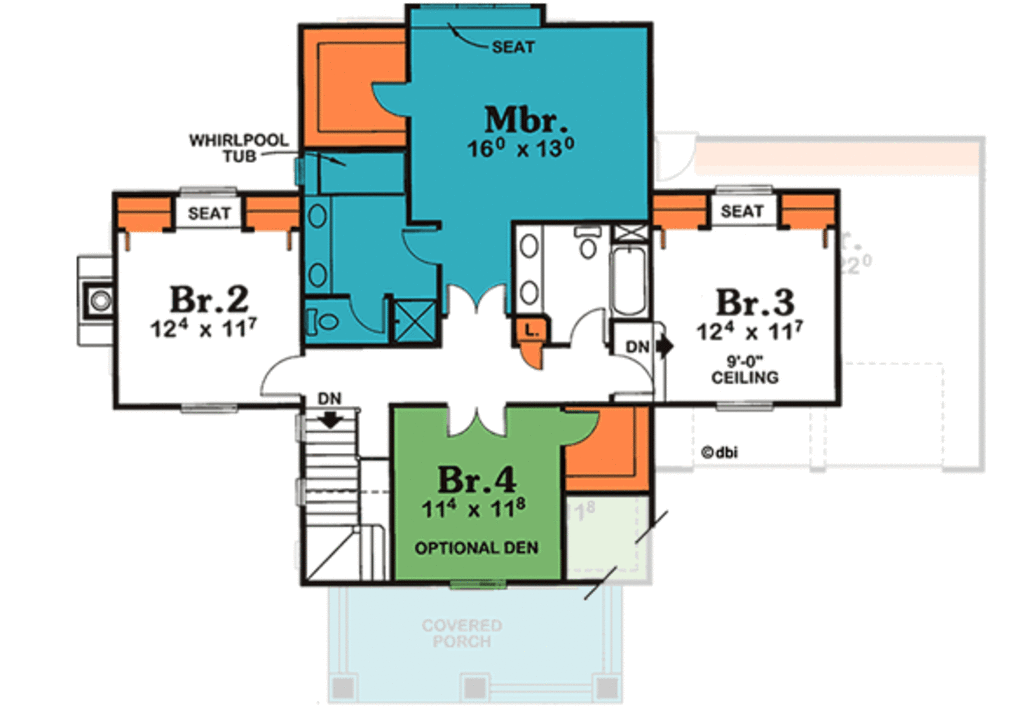door: (398, 226, 452, 276), (251, 354, 313, 397), (437, 283, 510, 318), (442, 399, 507, 437), (606, 355, 657, 395), (555, 409, 605, 448), (347, 292, 391, 335), (367, 78, 410, 120), (567, 305, 605, 350)
large_sink: (303, 305, 351, 339), (565, 222, 602, 262)
small_sink: (300, 203, 336, 295), (513, 224, 545, 315)
stairs: (302, 403, 398, 578)
tub: (611, 245, 652, 319)
window: (176, 393, 243, 415), (715, 398, 776, 415), (175, 182, 236, 197), (713, 183, 778, 194)
